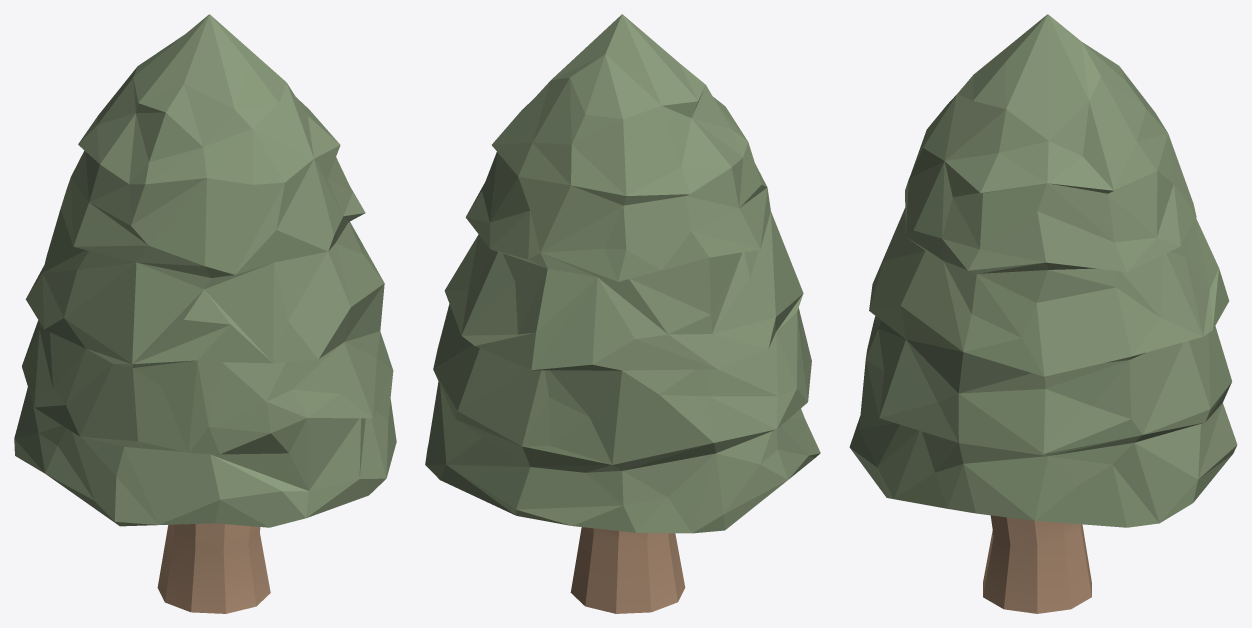
Rendered from Pine_Tree_4.fbx.
3 renders of one model, left to right at view 1: azimuth 30°, elevation 25°; view 2: azimuth 150°, elevation 25°; view 3: azimuth 270°, elevation 25°, orthographic.
Visible parts, largest first — view 1: Pine_Tree_4; view 2: Pine_Tree_4; view 3: Pine_Tree_4.
Boxes of the visible parts, x1=… form: Pine_Tree_4: x1=14, y1=14, x2=396, y2=613; Pine_Tree_4: x1=425, y1=14, x2=820, y2=613; Pine_Tree_4: x1=849, y1=14, x2=1237, y2=613.
Size of the model in its own units: 2.66 by 4.42 by 2.7.
